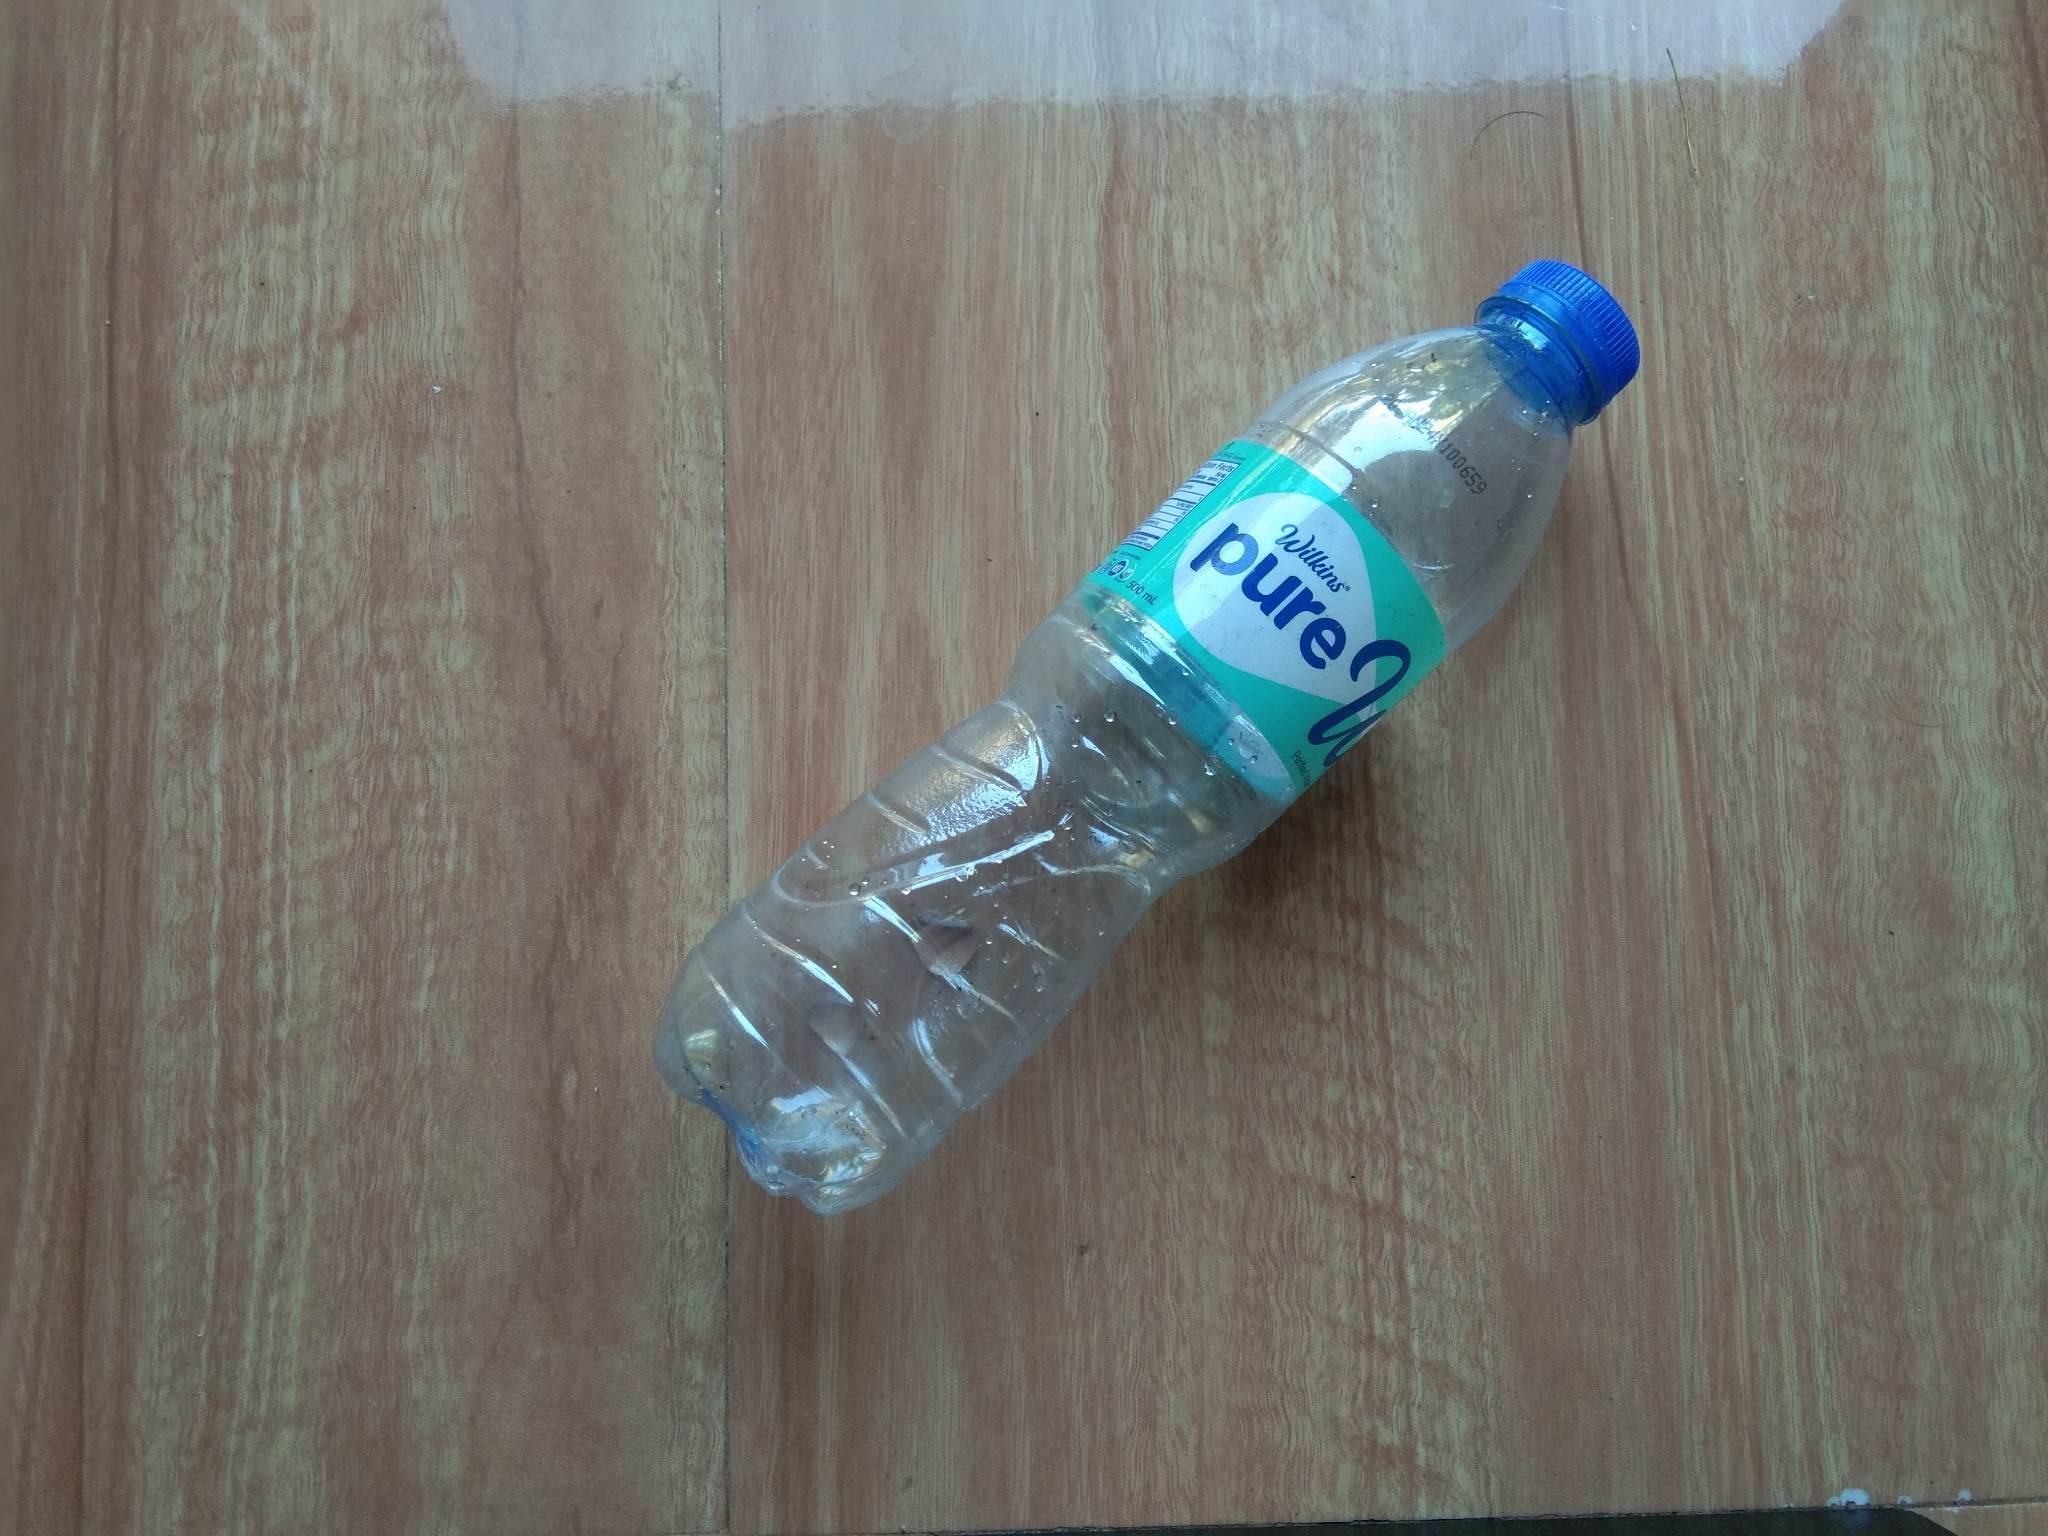plastic: (598, 239, 1666, 1252)
